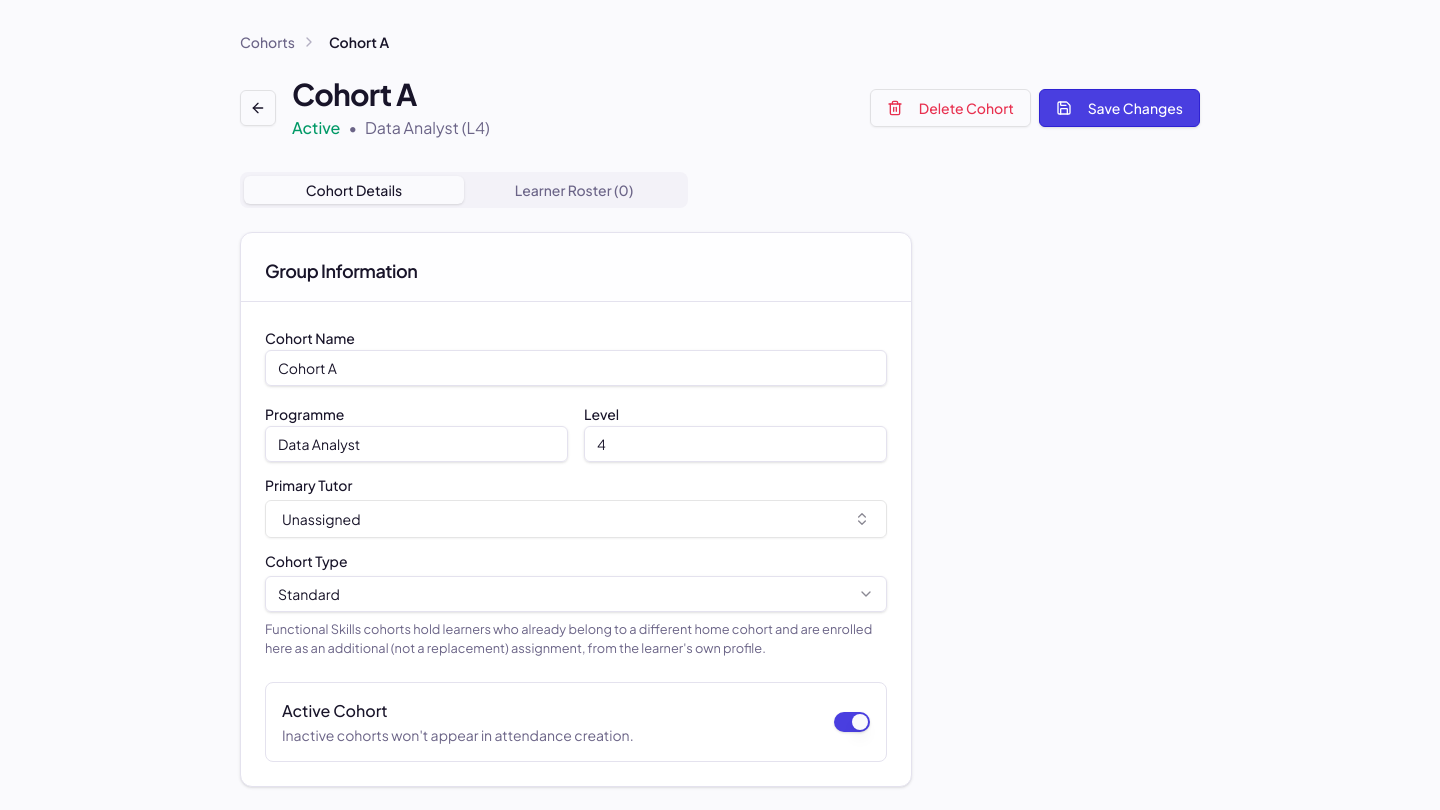
Test: CohortDetailPage delete action › shows the active-learner and session counts from a cohort_not_empty error
The image size is (1440, 810).
Click the button "Delete Cohort".
click(950, 108)  # box x1=870 y1=89 x2=1031 y2=127
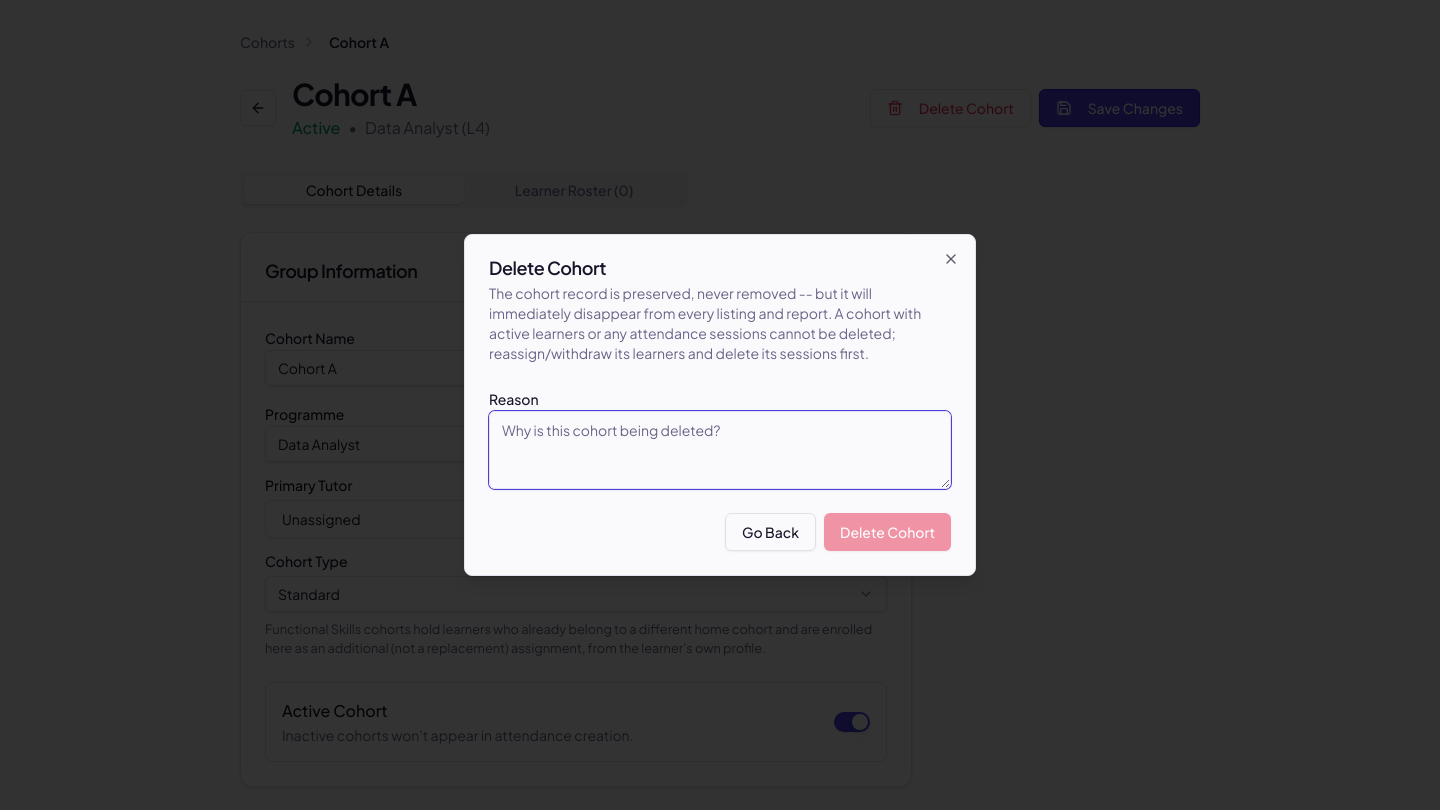
Type "No longer needed" into the text box labelled "Reason".
click(720, 450); type("No longer needed")  # box x1=489 y1=411 x2=951 y2=489
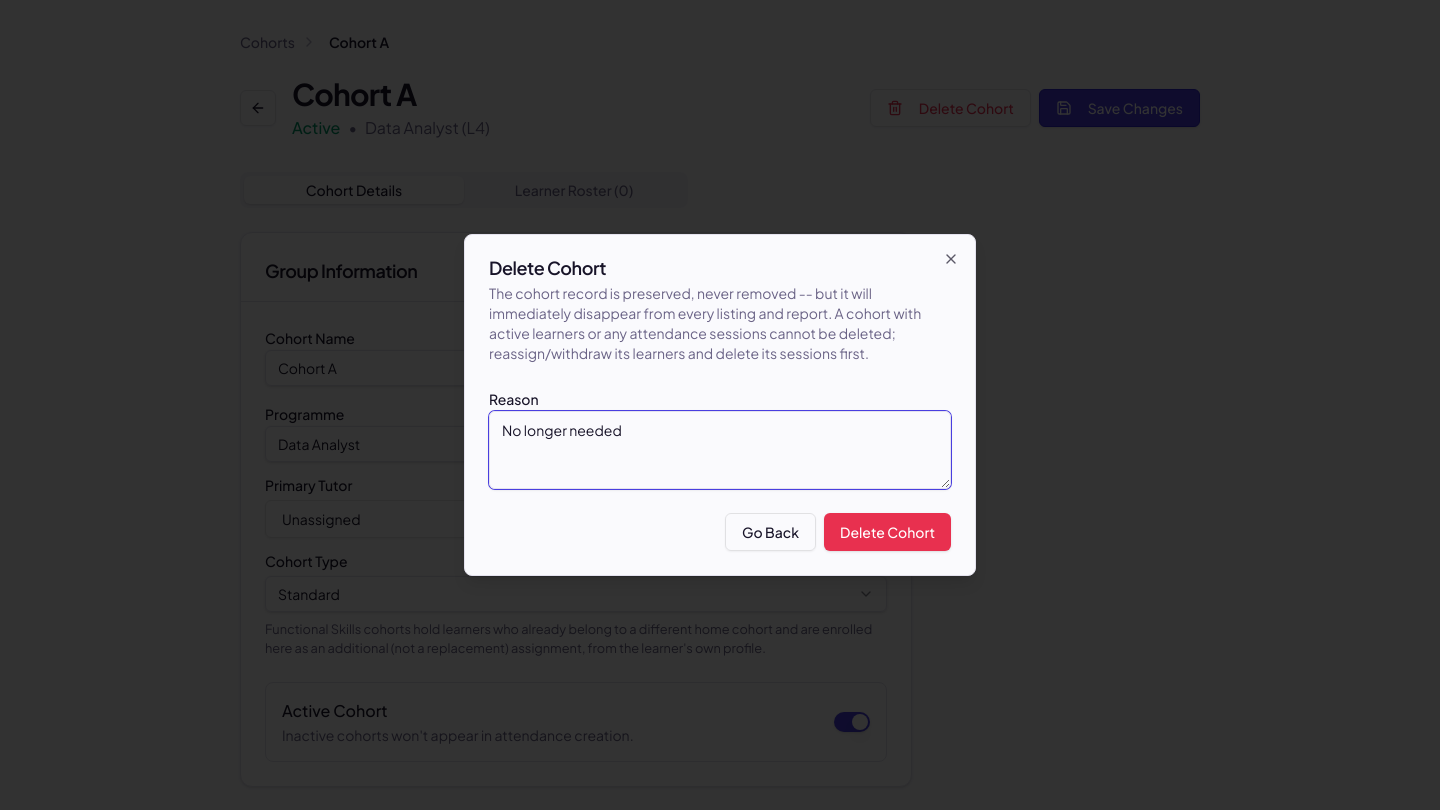
Click the button "Delete Cohort".
click(888, 532)  # box x1=824 y1=513 x2=951 y2=551
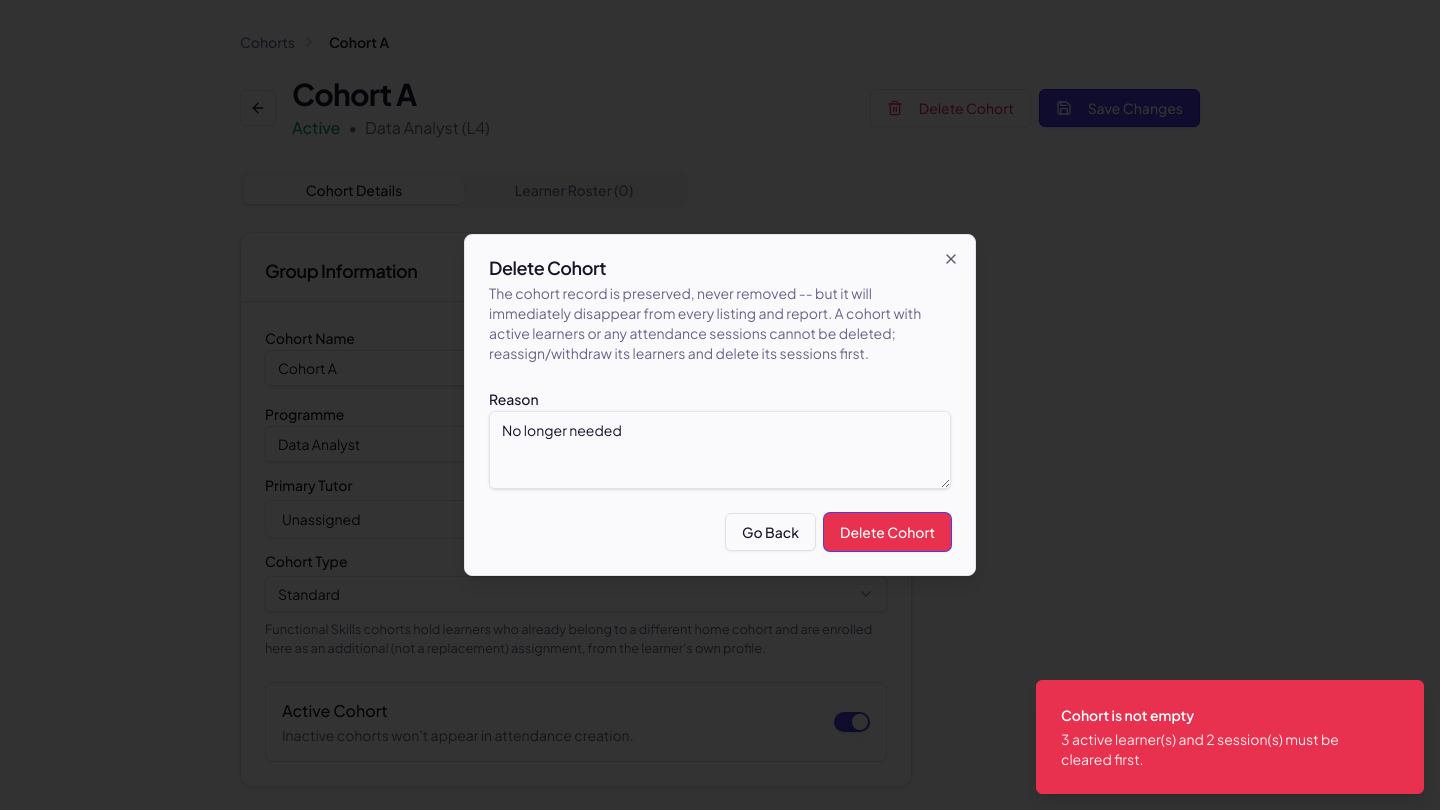
Result: the text "3 active learner(s) and 2 session(s) must be cleared first." is shown at x1=1061 y1=729 x2=1375 y2=769
